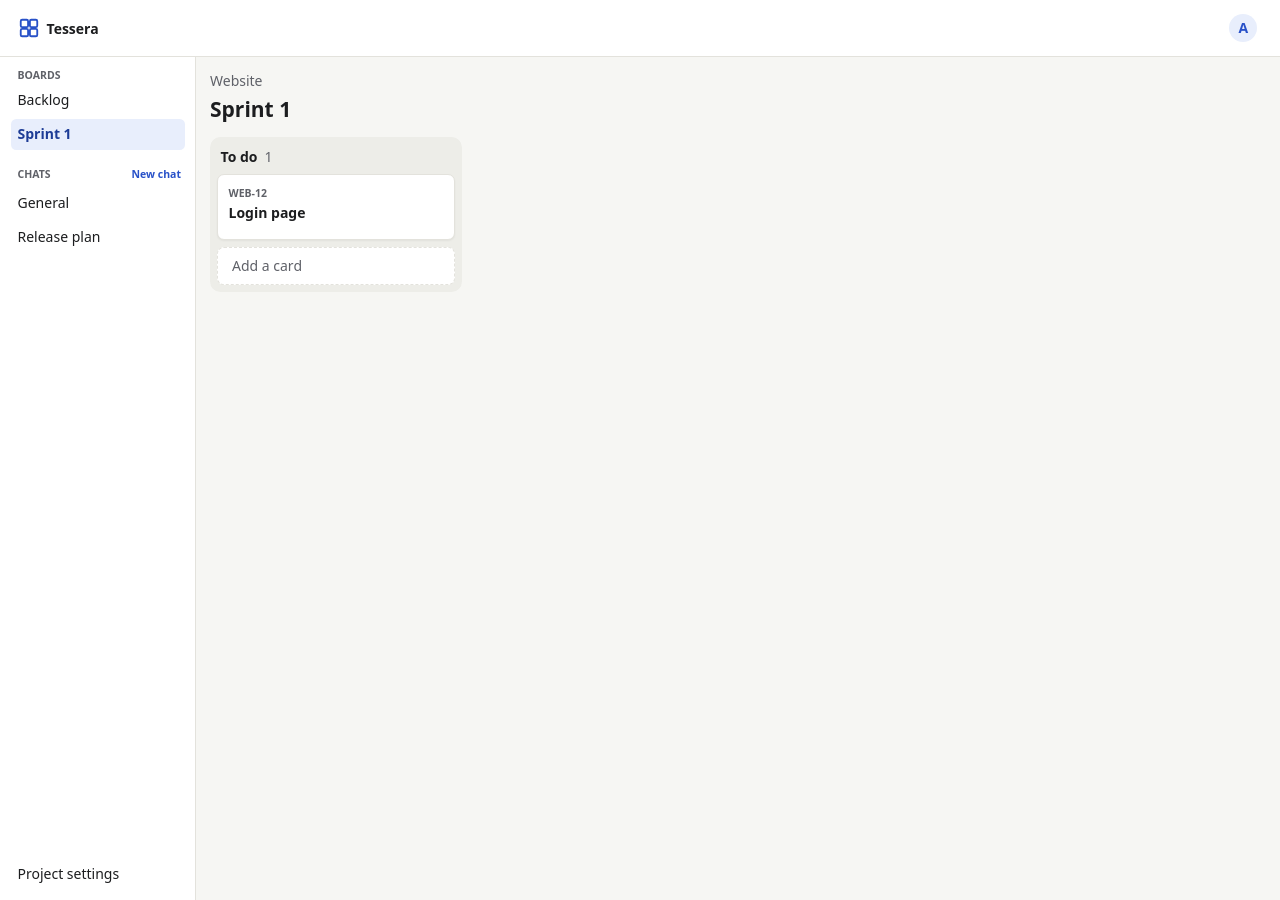
Chats on a board › opens a card’s chat when the card is clicked
Click the button "WEB-12 Login page" at (267, 204), box [228,186,306,222]
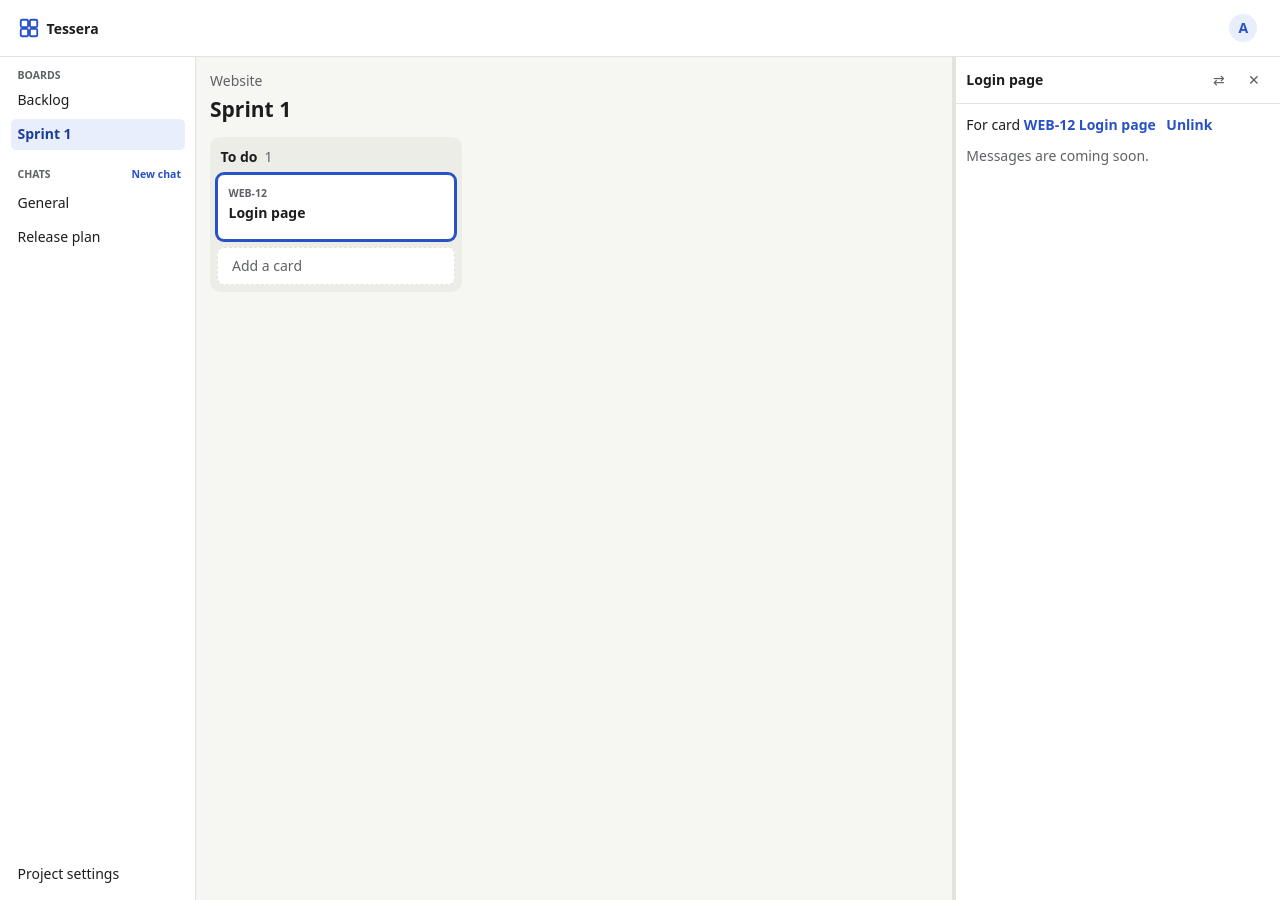
expect the element named "Chat: Login page" shows "For card WEB-12 Login page": met, box [956,57,1279,899]
